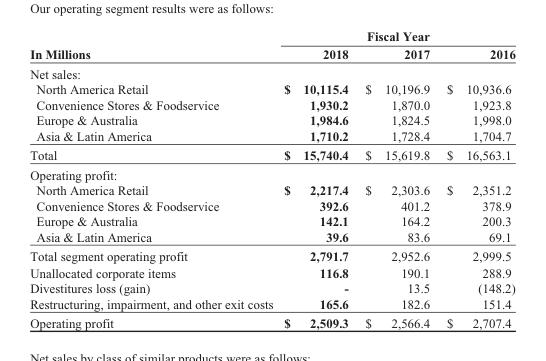table: (29, 28, 514, 330)
table column: (29, 28, 277, 330), (356, 28, 437, 330), (277, 28, 356, 330), (437, 28, 514, 330)
table column header: (29, 28, 514, 63)
table projected row header: (29, 63, 514, 81), (29, 164, 514, 181)
table row: (29, 145, 514, 164), (29, 245, 514, 264), (29, 45, 514, 63), (29, 63, 514, 81), (29, 127, 514, 145), (29, 295, 514, 313), (29, 28, 514, 45), (29, 164, 514, 181), (29, 228, 514, 245), (29, 313, 514, 330), (29, 96, 514, 112), (29, 181, 514, 197), (29, 197, 514, 213), (29, 264, 514, 280), (29, 81, 514, 96), (29, 112, 514, 127), (29, 213, 514, 228), (29, 280, 514, 295)
table spanning cell: (29, 28, 277, 63), (277, 28, 514, 45)
